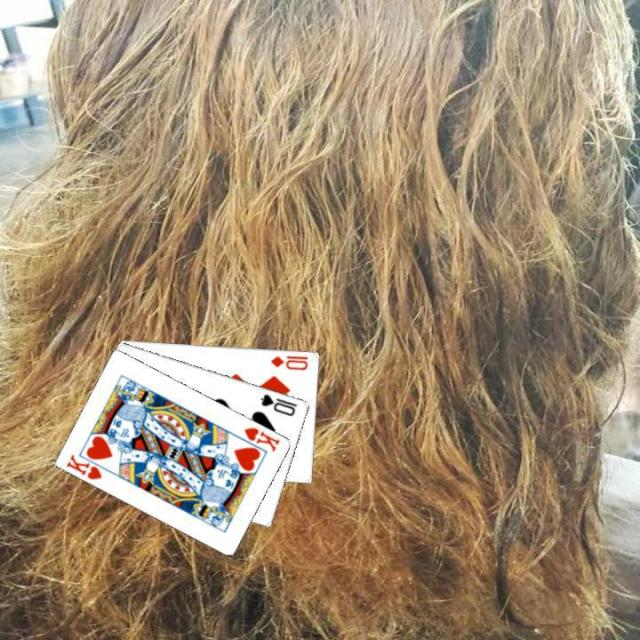10D: (268, 351, 310, 372)
10S: (257, 390, 299, 418)
KH: (63, 451, 104, 482), (240, 423, 282, 453)
